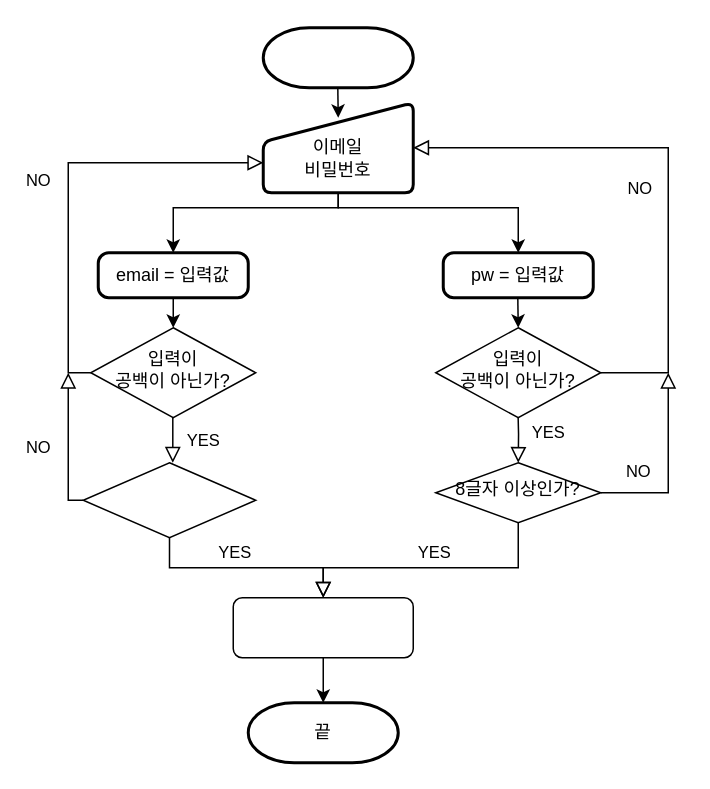
This 710x789 diagram has some shape labels left out. The shapes that lost their labels are listed below. From the top down, each one's centre as x and y in pixels, then its label:
(x=337, y=57): 시작
(x=169, y=499): @ 문자를 포함했는가?
(x=322, y=627): 로그인 버튼 = 활성
